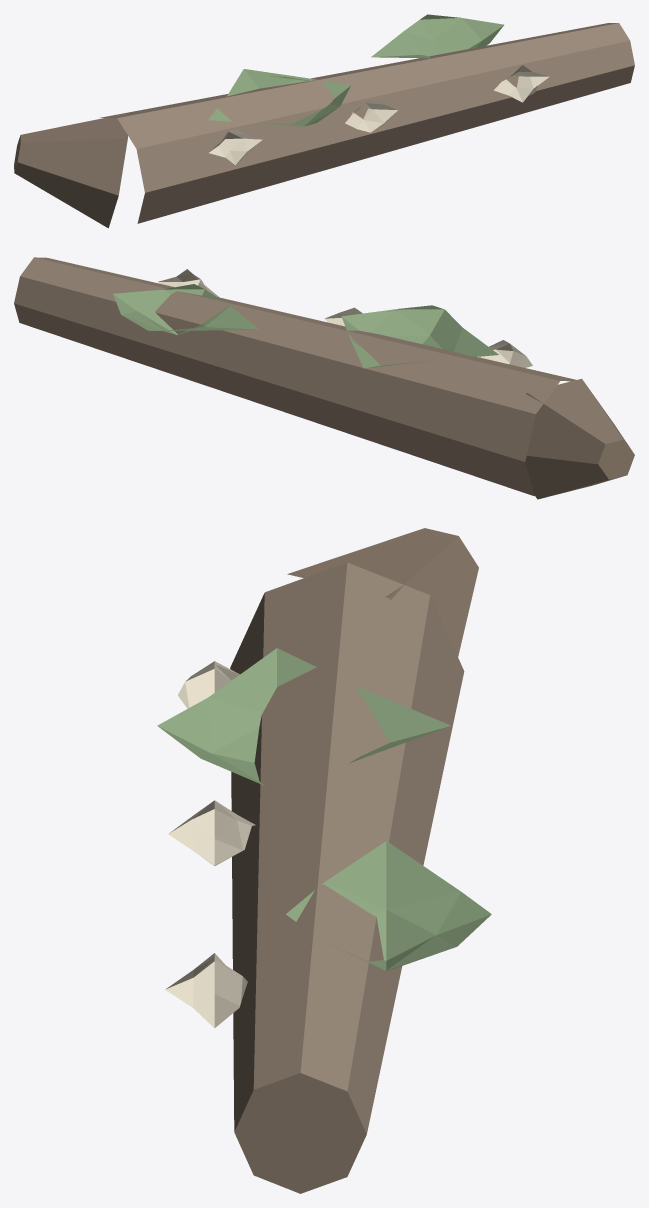
The model's file is log_fallen.glb.
3 views of the same model, one above another, from view 1: azimuth 30°, elevation 25°; view 2: azimuth 150°, elevation 25°; view 3: azimuth 270°, elevation 25° (orthographic). The views are drawn at different scales.
Visible parts, largest first — view 1: lod0; view 2: lod0; view 3: lod0.
Part boxes in pixels (x1,y1,x2,y2): lod0: (14,14,634,228); lod0: (14,257,634,499); lod0: (157,528,491,1193).
Size of what is drawn, in the model's own units: 3.41 by 0.6932 by 0.8583.
